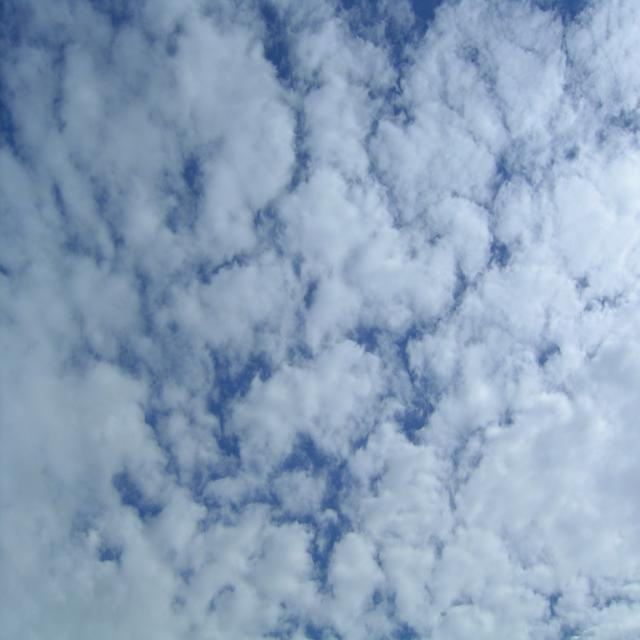altocumulus: (33, 16, 630, 624)
